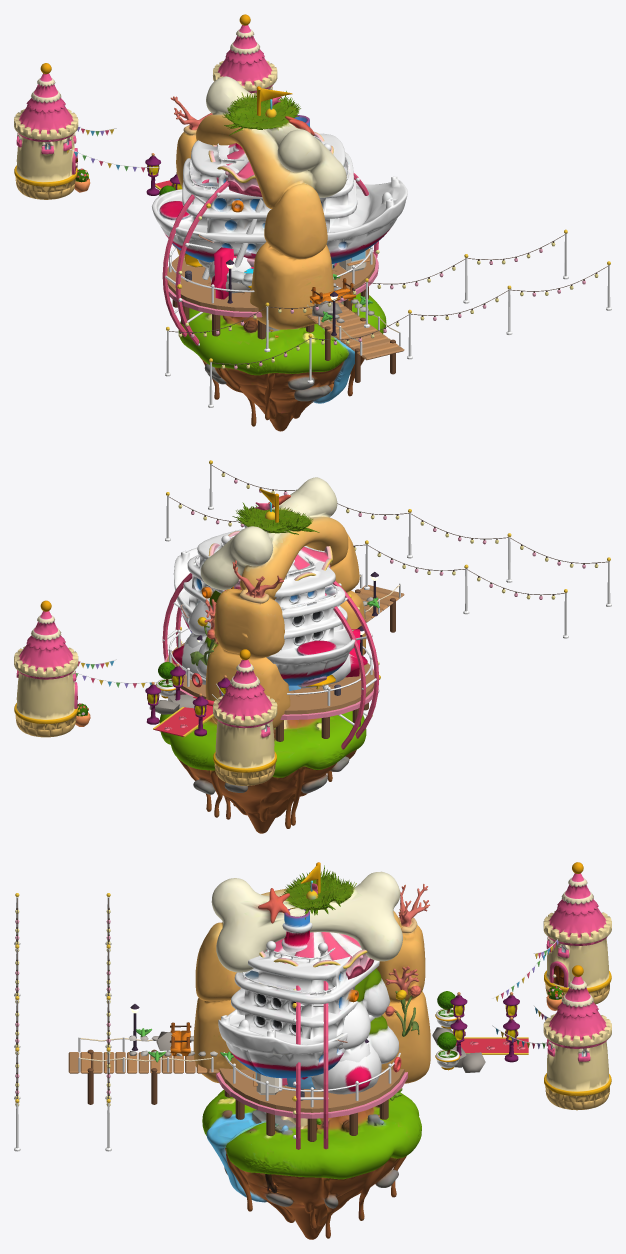
The model's file is sets.c20e456b.glb.
The picture shows the model from 3 angles, top to bottom: view 1: azimuth 30°, elevation 25°; view 2: azimuth 150°, elevation 25°; view 3: azimuth 270°, elevation 25°; orthographic projection. The views are drawn at different scales.
Parts seen in each view (by area): view 1: Set_bonearch, Set_ship, Set_skyisle, Set_palace, Set_pier, Set_lights, Set_ferris_wheel, Set_carousel_top, Set_fallhill, Set_blimp; view 2: Set_bonearch, Set_palace, Set_skyisle, Set_ship, Set_pier, Set_ferris_wheel, Set_lights, Set_blimp, Set_fallhill, Set_carousel_top; view 3: Set_bonearch, Set_skyisle, Set_palace, Set_ship, Set_pier, Set_fallhill, Set_carousel_top, Set_ferris_wheel, Set_blimp, Set_lights.
Boxes of the visible parts, x1,y1,x2,y2 form: Set_bonearch: (170,76,346,329); Set_ship: (152,86,407,263); Set_skyisle: (178,293,386,431); Set_palace: (14,14,277,199); Set_pier: (163,199,404,382); Set_lights: (165,229,611,407); Set_ferris_wheel: (162,173,379,345); Set_carousel_top: (208,96,333,196); Set_fallhill: (197,259,374,322); Set_blimp: (184,247,253,299); Set_bonearch: (149,477,366,728); Set_palace: (14,600,277,785); Set_skyisle: (159,711,366,833); Set_ship: (173,488,355,686); Set_pier: (164,572,404,741); Set_ferris_wheel: (162,573,380,749); Set_lights: (165,460,611,638); Set_blimp: (171,629,367,688); Set_fallhill: (186,590,379,685); Set_carousel_top: (208,502,332,590); Set_bonearch: (156,865,485,1083); Set_skyisle: (202,1077,421,1239); Set_palace: (435,862,611,1110); Set_ship: (218,862,379,1078); Set_pier: (68,1004,407,1141); Set_fallhill: (129,968,399,1077); Set_carousel_top: (259,880,374,979); Set_ferris_wheel: (292,981,328,1149); Set_blimp: (311,1043,381,1094); Set_lights: (14,893,111,1151).
Bounding box in the file's own units: 17.84 × 14.63 × 21.6.
57 materials, 11 textured.
